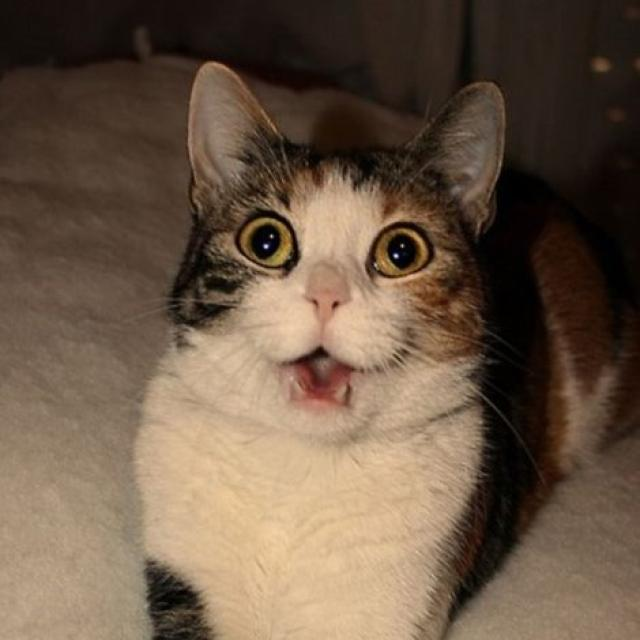Surprised: (217, 169, 447, 432)
